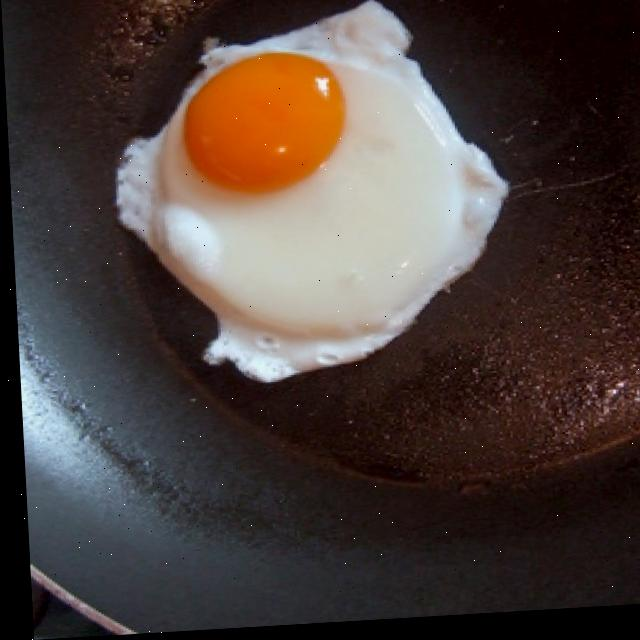鸡蛋料理: (93, 0, 483, 391)
